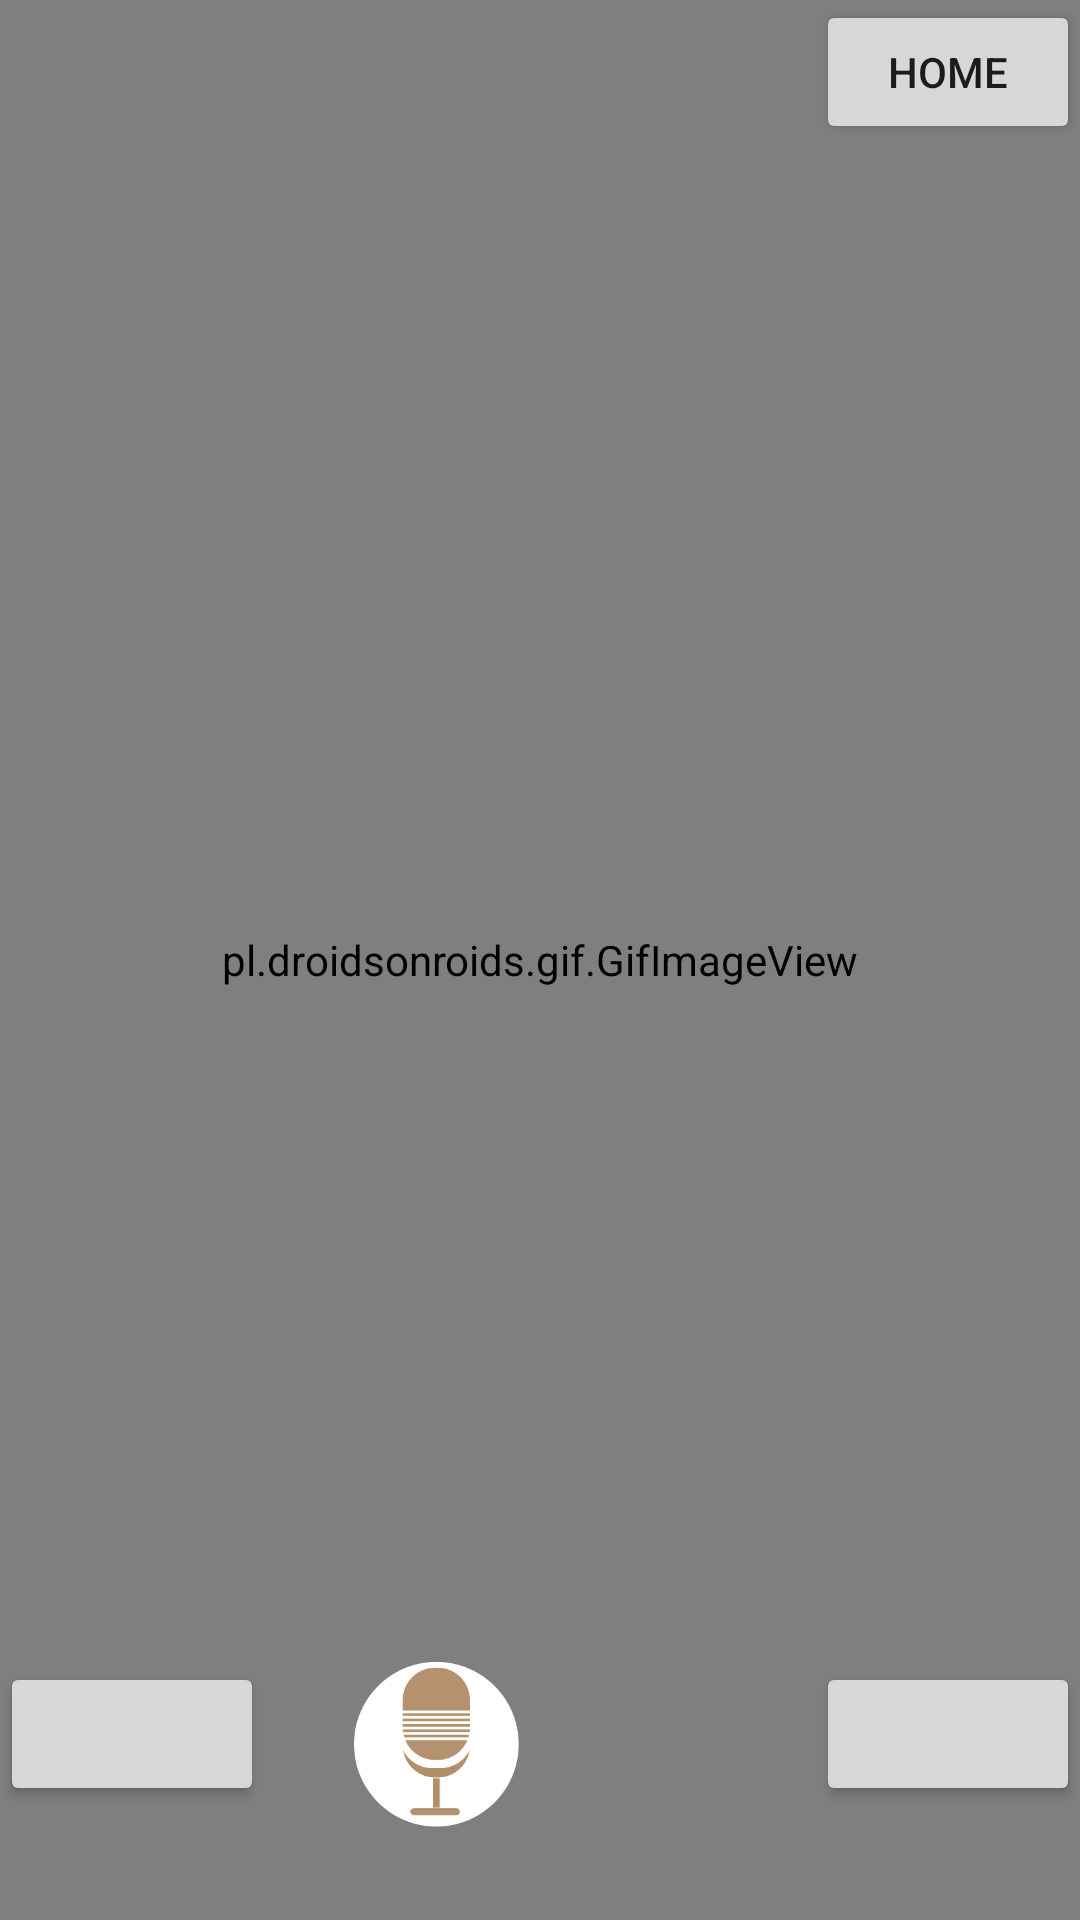

Icon click points for this 1080×1920 phone screenshot, format (x=x, y=y):
mic: (x=436, y=1744)
